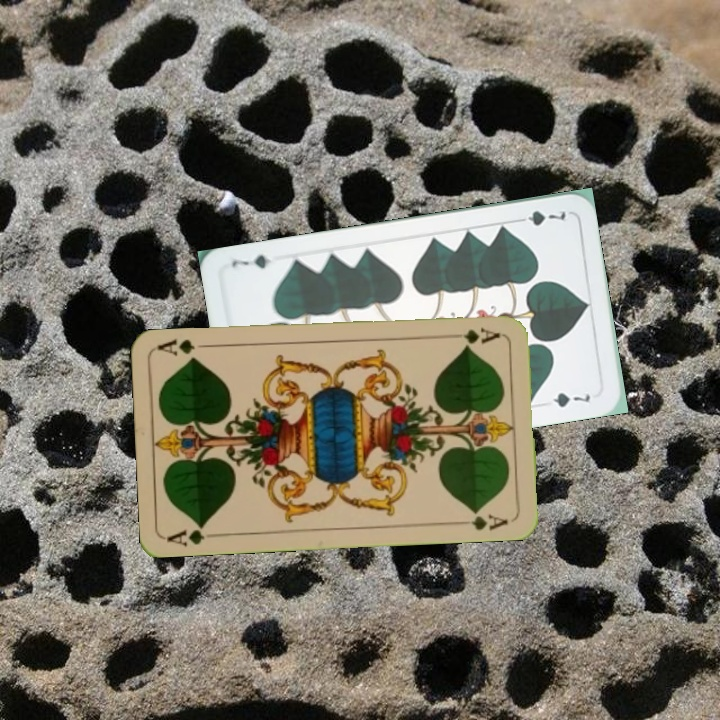G7: (511, 206, 569, 229)
GA: (164, 520, 223, 548), (445, 323, 503, 348)
